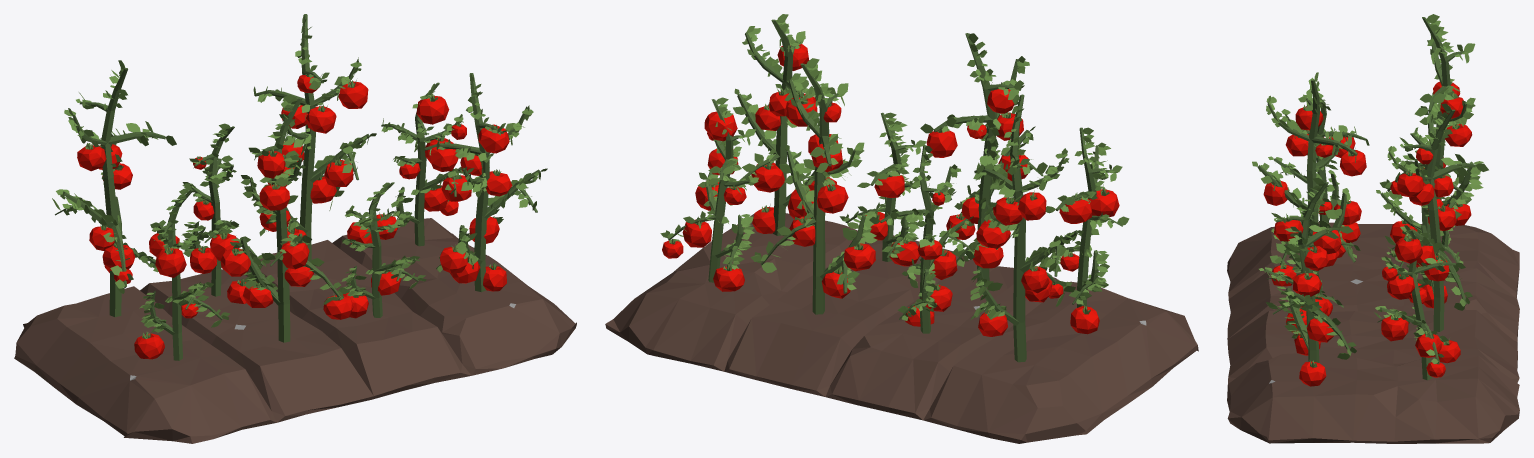
Rendered from Tomatos.fbx.
The picture shows the model from 3 angles, left to right: view 1: azimuth 30°, elevation 25°; view 2: azimuth 150°, elevation 25°; view 3: azimuth 270°, elevation 25°; orthographic projection. The views are drawn at different scales.
Parts seen in each view (by area): view 1: Tomato garden, Tomatos; view 2: Tomato garden, Tomatos; view 3: Tomato garden, Tomatos.
Part boxes in pixels (<box>): Tomato garden: <box>14,14,576,443</box>; Tomatos: <box>77,73,512,359</box>; Tomato garden: <box>605,14,1198,443</box>; Tomatos: <box>662,40,1119,336</box>; Tomato garden: <box>1227,14,1519,443</box>; Tomatos: <box>1263,81,1472,386</box>.
Bounding box in the file's own units: 9.88 × 6.03 × 6.01.
